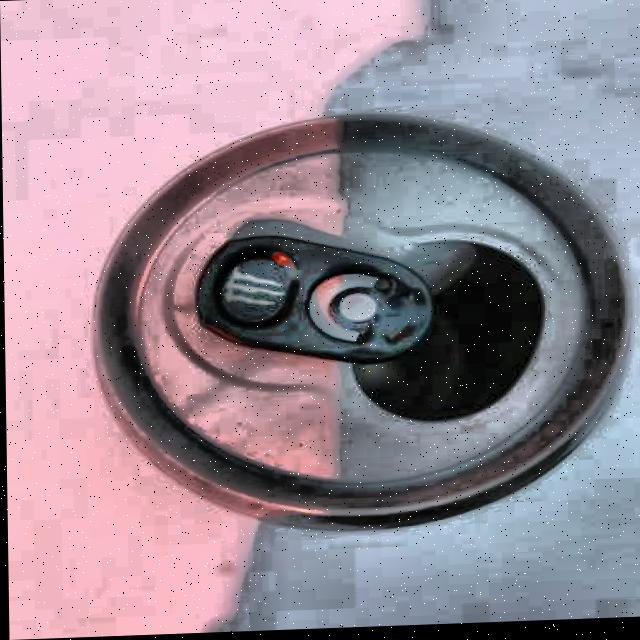metal: (85, 101, 640, 543)
